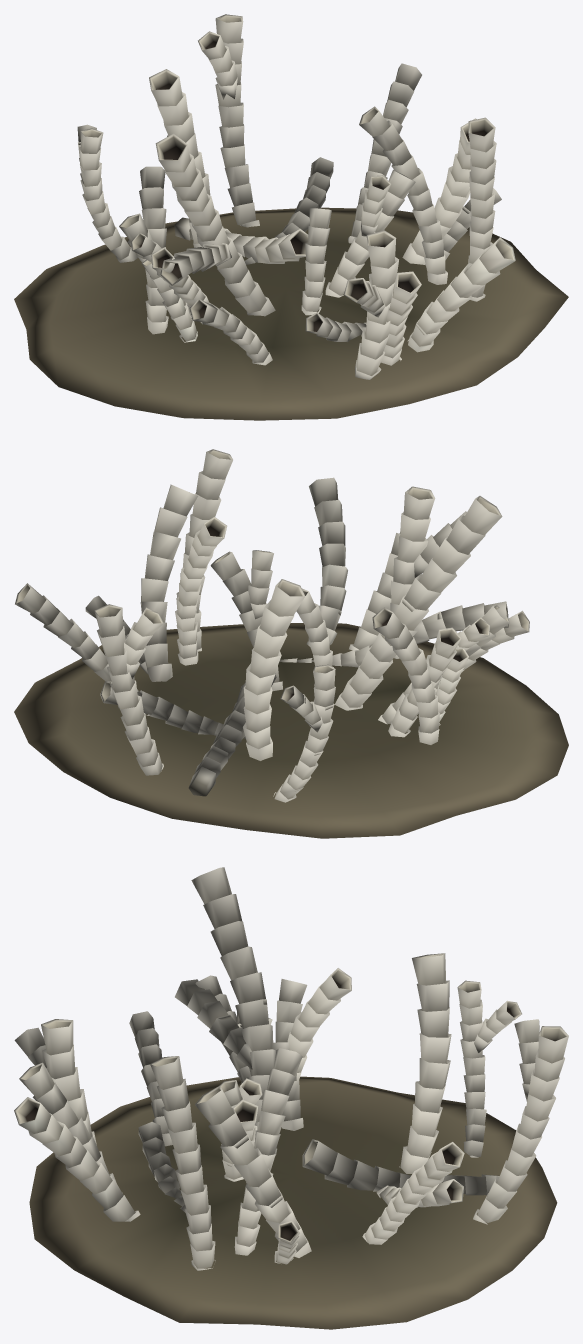
Rendered from CloudinaRiemkeae.fbx.
3 views of the same model, one above another, from view 1: azimuth 30°, elevation 25°; view 2: azimuth 150°, elevation 25°; view 3: azimuth 270°, elevation 25° (orthographic). The views are drawn at different scales.
Visible parts, largest first — view 1: CloudinaRiemkeae; view 2: CloudinaRiemkeae; view 3: CloudinaRiemkeae.
Part boxes in pixels (x1,y1,x2,y2): CloudinaRiemkeae: [14, 14, 568, 420]; CloudinaRiemkeae: [14, 449, 568, 838]; CloudinaRiemkeae: [14, 867, 568, 1329].
Size of the model in its own units: 0.7548 by 0.3567 by 0.6939.
